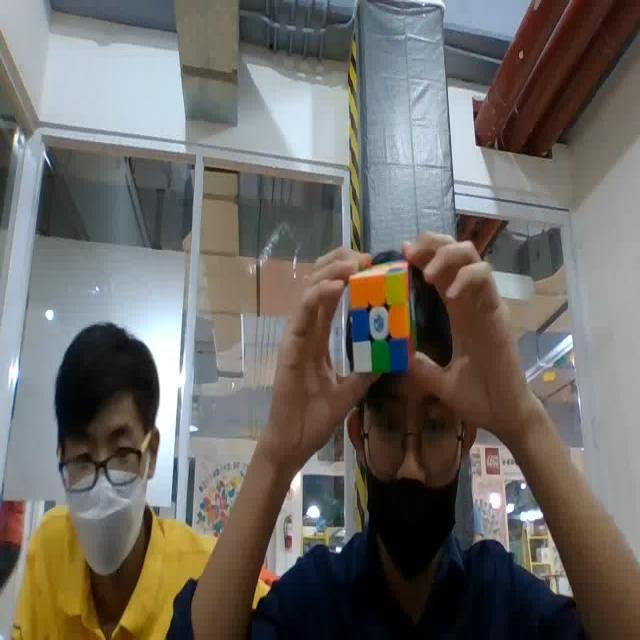Rub: (342, 260, 418, 374)
